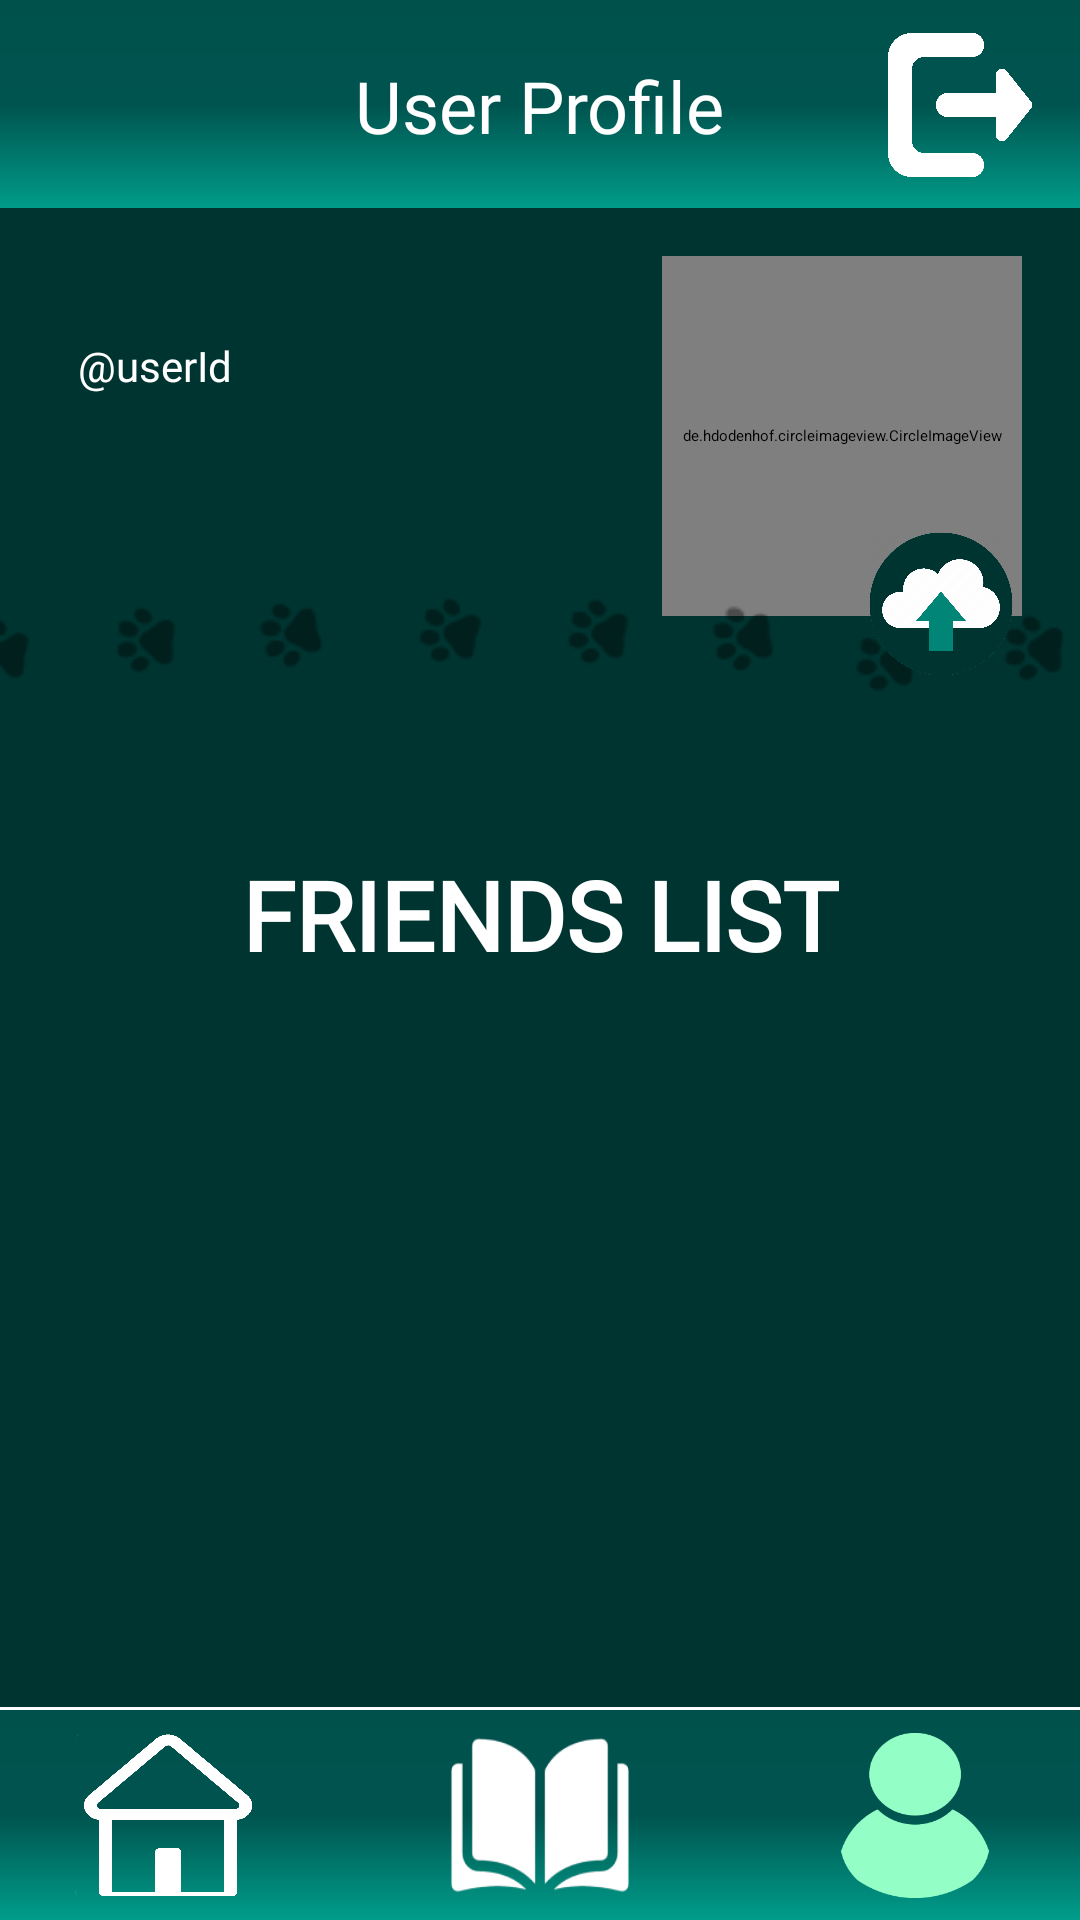

Point at icon controls on the screen. Image size 1080 x 1920, points as (x=x, y=y).
home: (x=165, y=1815)
theory: (x=540, y=1815)
user: (x=915, y=1815)
